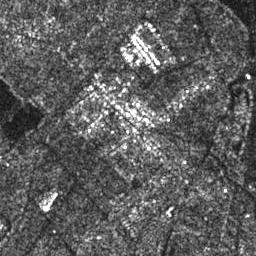ship: (40, 189, 59, 213)
